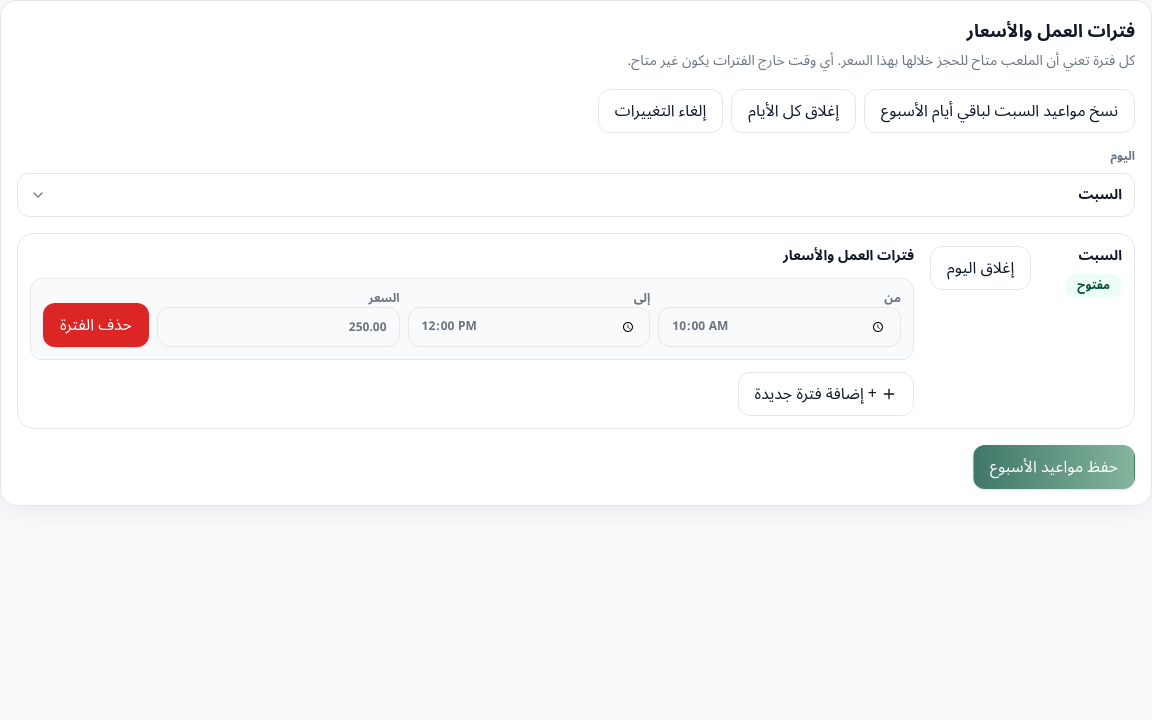
Test: CourtWorkingHoursSection › switches to the first invalid weekday and focuses its field after a failed save
Click the button named "اليوم" at x=1100, y=194, box left=17, top=173, right=1135, bottom=217
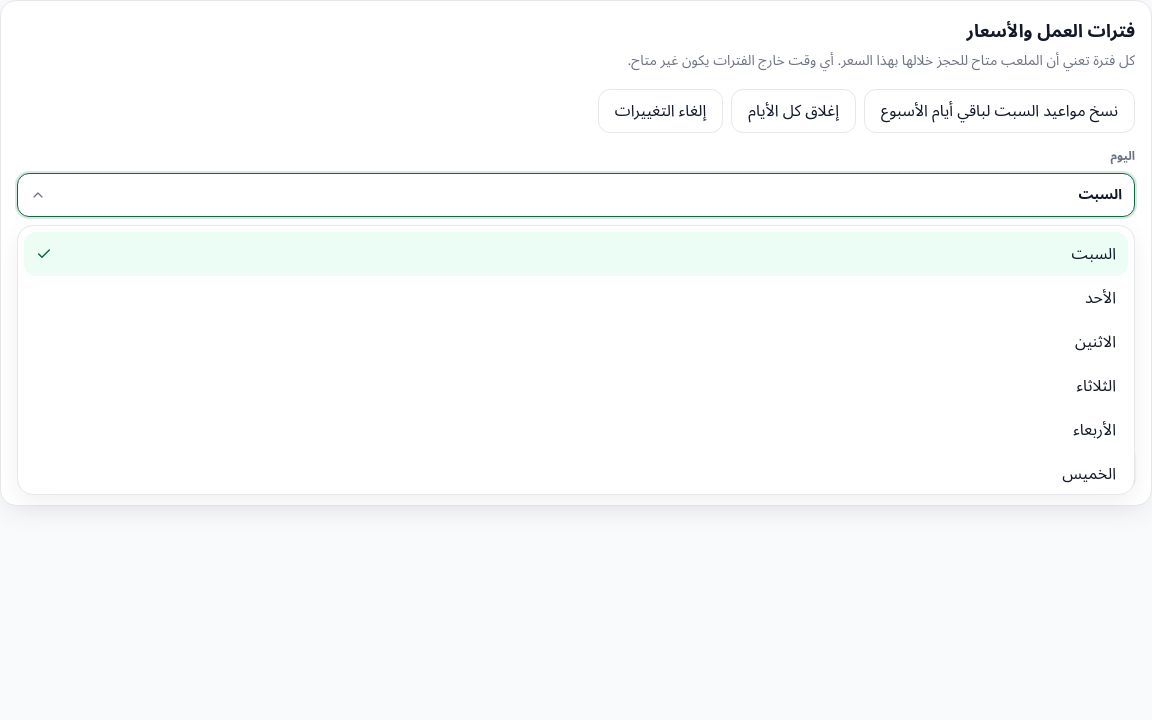
Click the option "الأحد" at x=1100, y=298, box left=24, top=276, right=1128, bottom=320
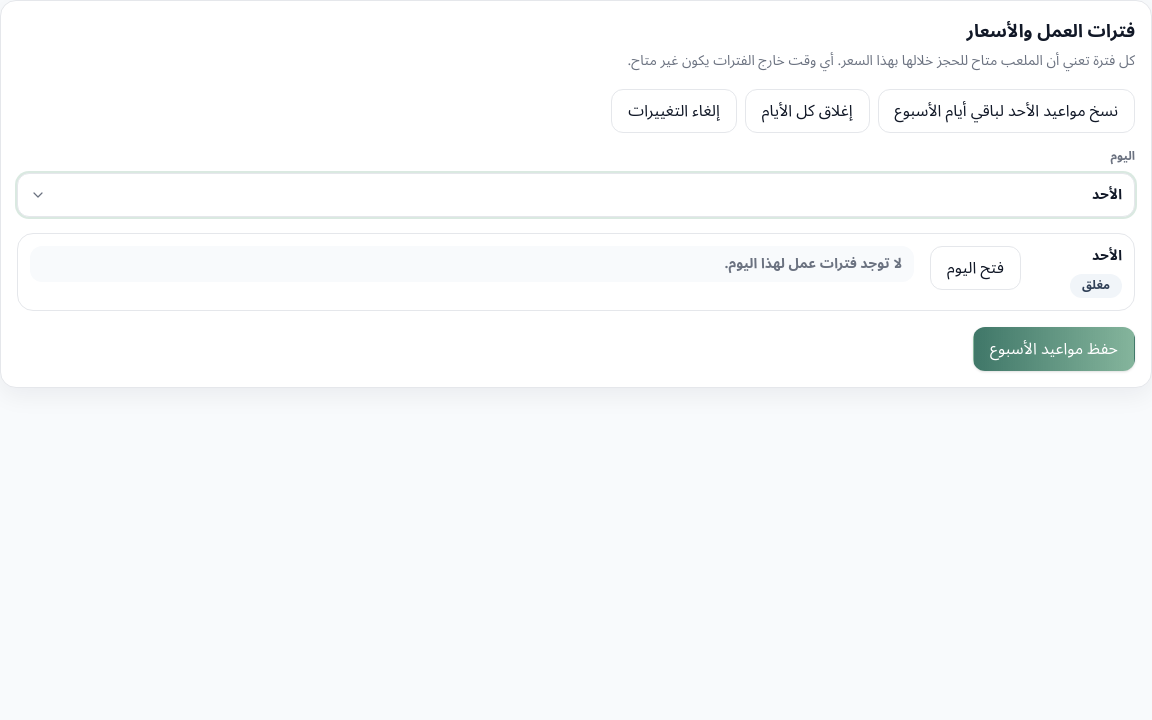
Click the button "فتح اليوم" at x=975, y=268, box left=930, top=246, right=1021, bottom=290
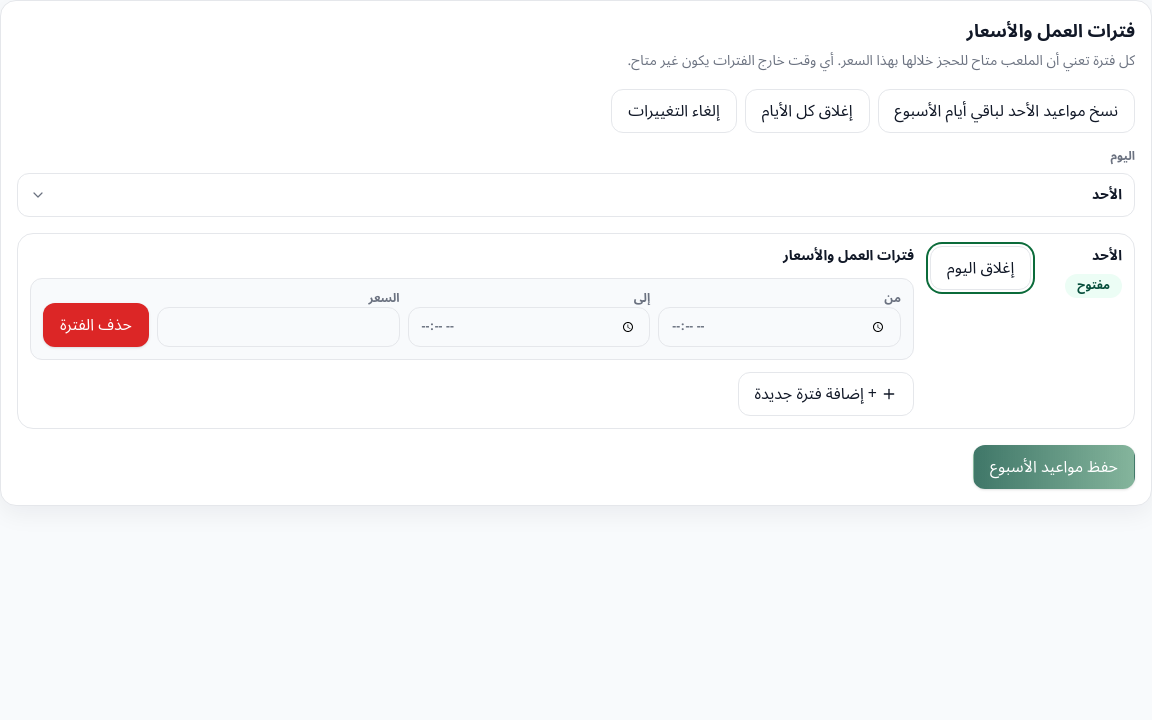
Type "10:00" into the time field named "فترة العمل 1 من" at x=780, y=327, box left=658, top=307, right=901, bottom=347
Type "12:00" into the time field named "فترة العمل 1 إلى" at x=529, y=327, box left=408, top=307, right=650, bottom=347
Click the button named "اليوم" at x=1107, y=194, box left=17, top=173, right=1135, bottom=217
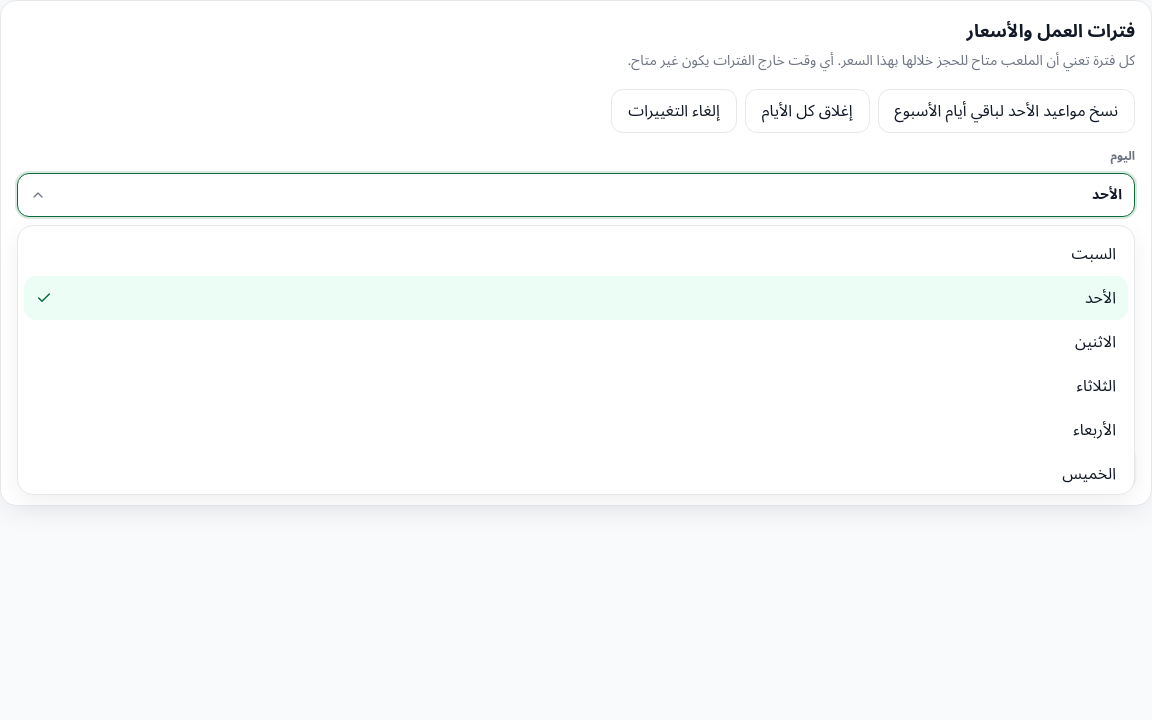
Click the option "السبت" at x=1094, y=254, box left=24, top=232, right=1128, bottom=276
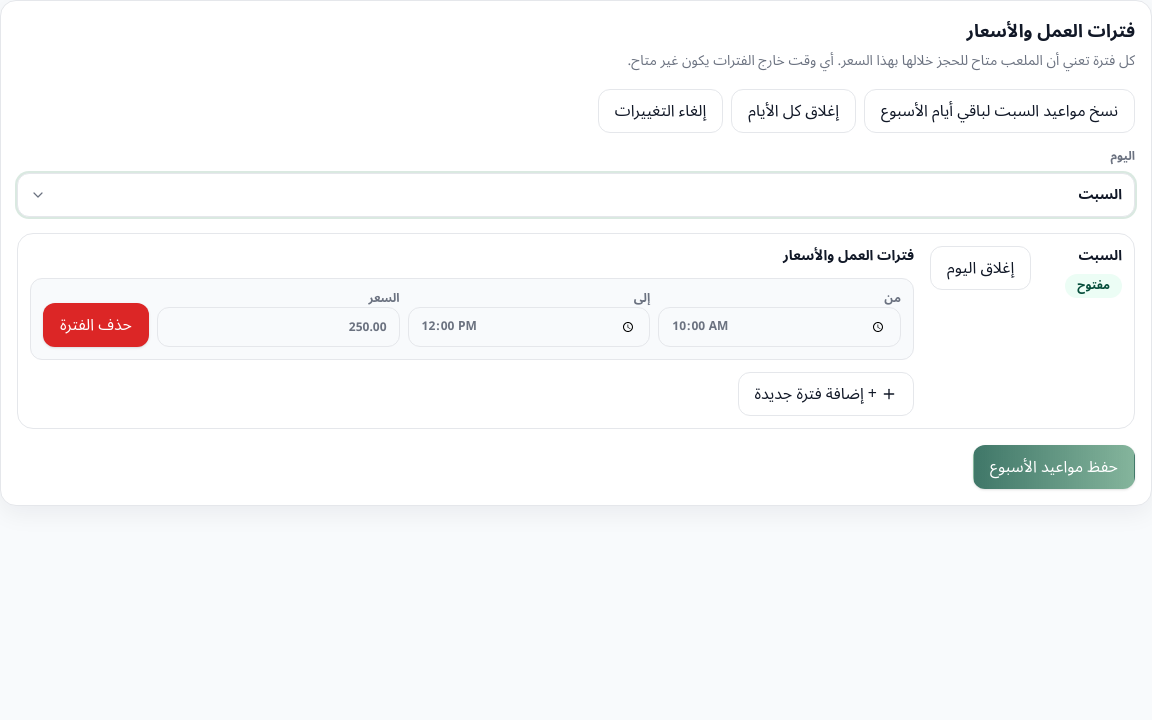
Click the button "حفظ مواعيد الأسبوع" at x=1054, y=467, box left=973, top=445, right=1135, bottom=489
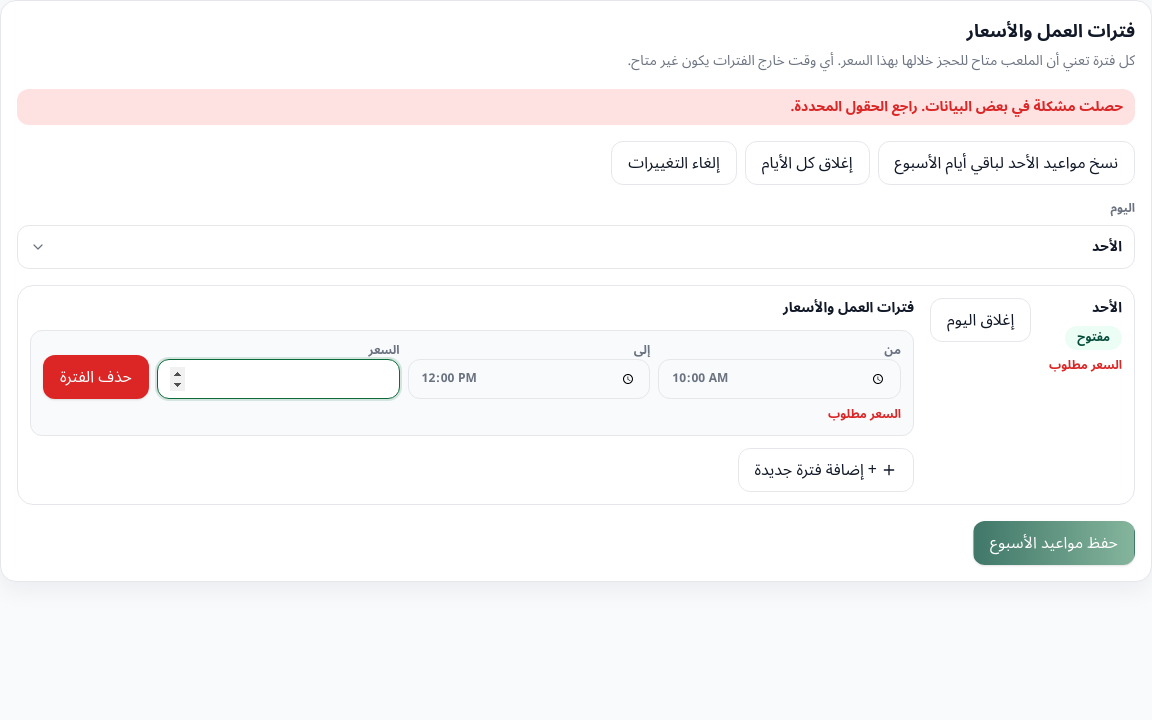
Expected: the text "حصلت مشكلة في بعض البيانات. راجع الحقول المحددة." is shown, left=17, top=89, right=1135, bottom=125
Expected: the text "السعر مطلوب" below "مفتوح" is shown, left=1049, top=353, right=1122, bottom=378
